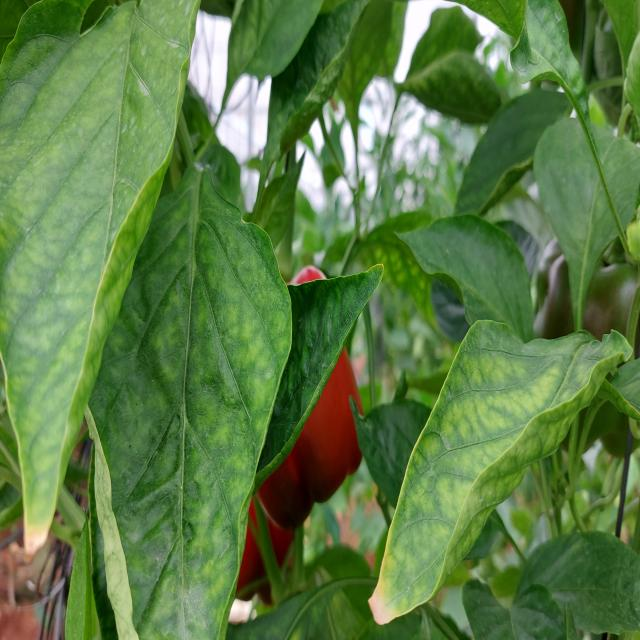Red-Ready-to-Harvest: (212, 258, 383, 509), (177, 415, 306, 617)
